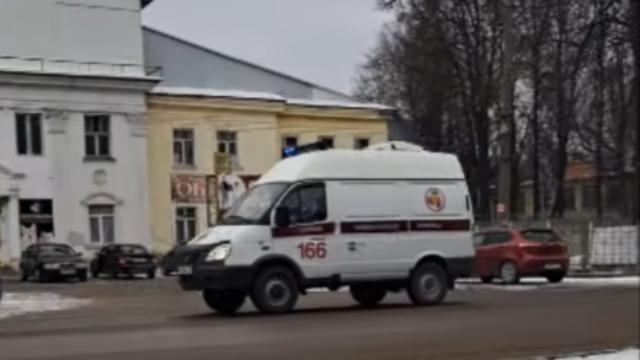ambulance: (180, 147, 473, 317)
non emergency car: (475, 228, 568, 286), (20, 242, 88, 282), (92, 243, 158, 282)
